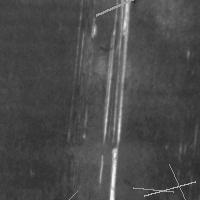scratches: (100, 1, 131, 199), (91, 0, 190, 20), (139, 177, 200, 200), (164, 159, 197, 200), (73, 7, 98, 60), (26, 186, 82, 200), (128, 183, 178, 197)
